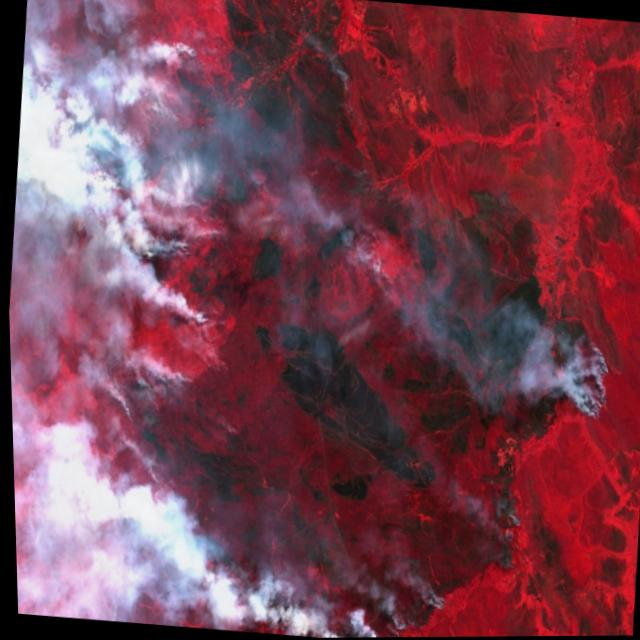fire: (41, 14, 248, 338), (135, 511, 452, 639), (549, 340, 621, 440)
